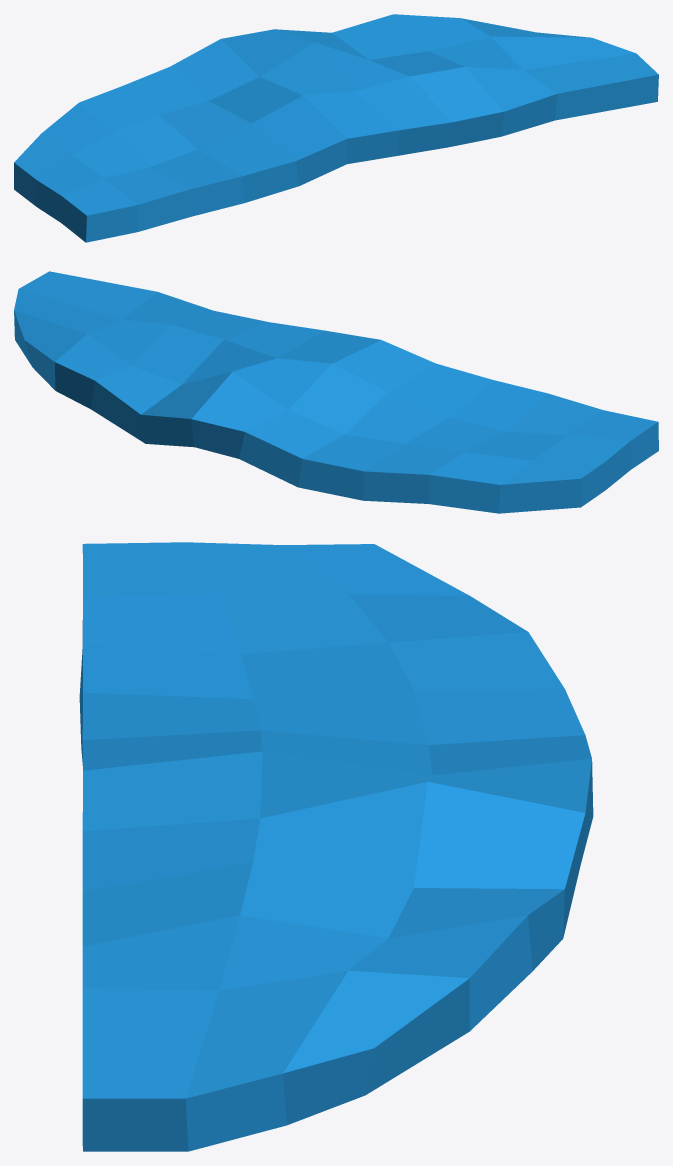
Rendered from water.fbx.
The picture shows the model from 3 angles, top to bottom: view 1: azimuth 30°, elevation 25°; view 2: azimuth 150°, elevation 25°; view 3: azimuth 270°, elevation 25°; orthographic projection. The views are drawn at different scales.
Parts seen in each view (by area): view 1: Plane; view 2: Plane; view 3: Plane.
Boxes of the visible parts, bbox=[...] form: Plane: bbox=[14, 14, 658, 242]; Plane: bbox=[14, 271, 658, 513]; Plane: bbox=[79, 542, 593, 1151].
Bounding box in the file's own units: 4395 × 483 × 1698.
